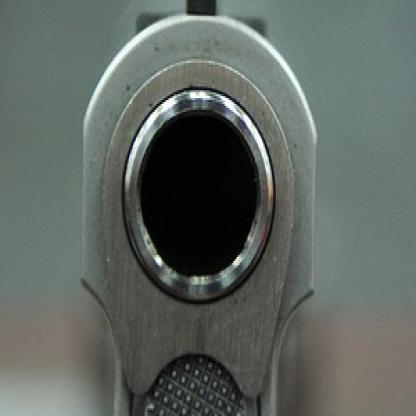gun: (39, 0, 355, 414)
